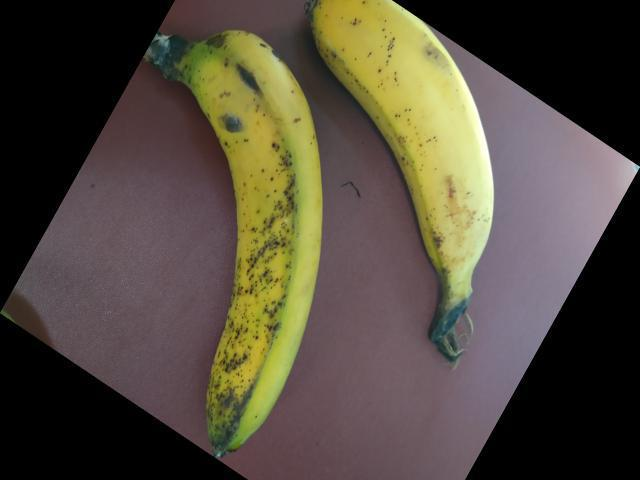ripe: (158, 22, 334, 479), (317, 0, 526, 274)
